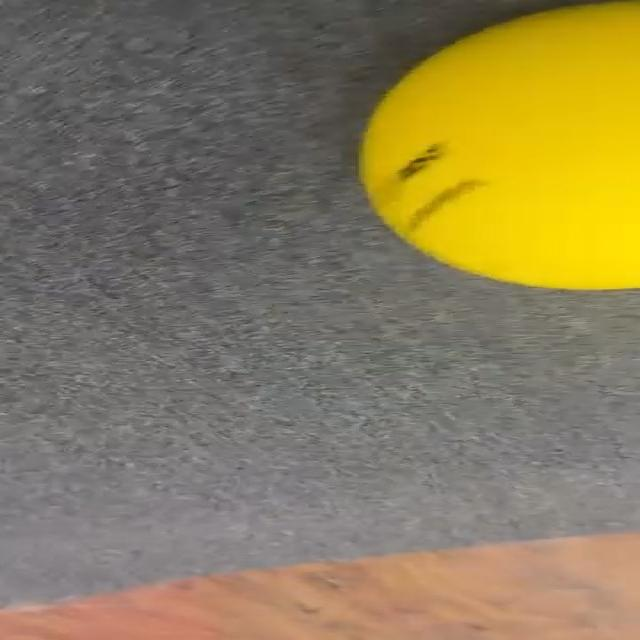Fuels: (361, 0, 640, 296)
